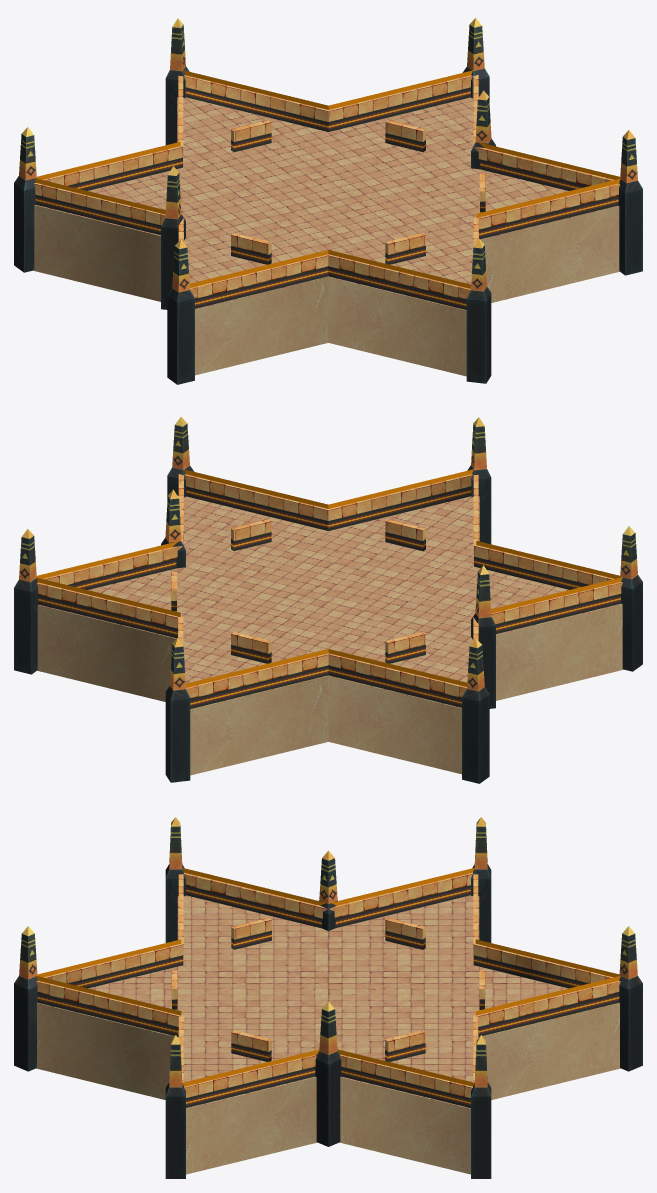
File: Battle_Stage 28.fbx
3 renders of one model, top to bottom at view 1: azimuth 30°, elevation 25°; view 2: azimuth 150°, elevation 25°; view 3: azimuth 270°, elevation 25°, orthographic.
Parts seen in each view (by area): view 1: Star, CR_Platform_Cube.046, CR_Platform_Cube.037, Star.001; view 2: Star, CR_Platform_Cube.046, CR_Platform_Cube.037, Star.001; view 3: Star, CR_Platform_Cube.046, CR_Platform_Cube.037, Star.001.
Part boxes in pixels (box(x1,y1,x2,y2)): Star: box(33, 96, 619, 376); CR_Platform_Cube.046: box(33, 75, 620, 309); CR_Platform_Cube.037: box(14, 18, 642, 384); Star.001: box(34, 70, 620, 288); Star: box(37, 495, 623, 775); CR_Platform_Cube.046: box(36, 474, 622, 708); CR_Platform_Cube.037: box(14, 417, 642, 783); Star.001: box(36, 469, 622, 687); Star: box(36, 895, 620, 1174); CR_Platform_Cube.046: box(36, 872, 620, 1107); CR_Platform_Cube.037: box(14, 817, 642, 1178); Star.001: box(36, 868, 620, 1086).
Bounding box in the file's own units: 7396 × 2229 × 8679.
